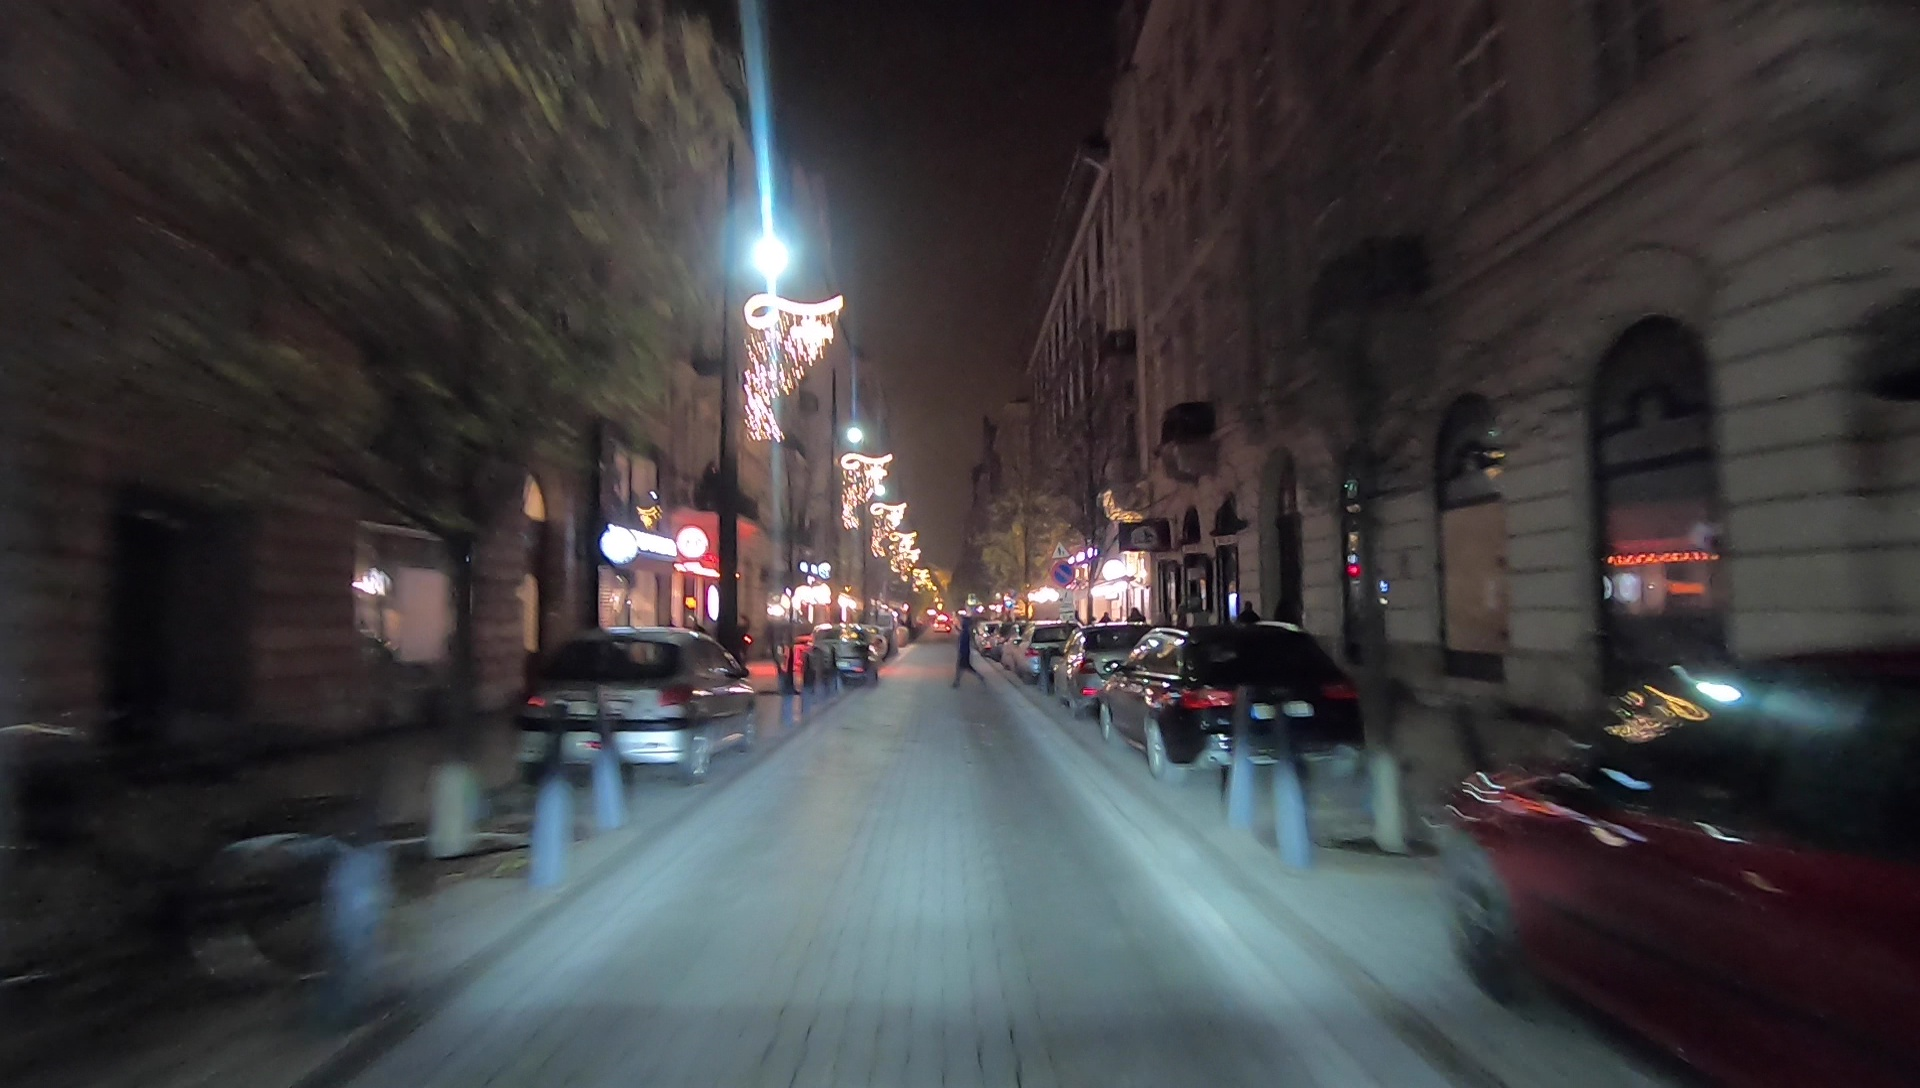person: (954, 611, 980, 689)
